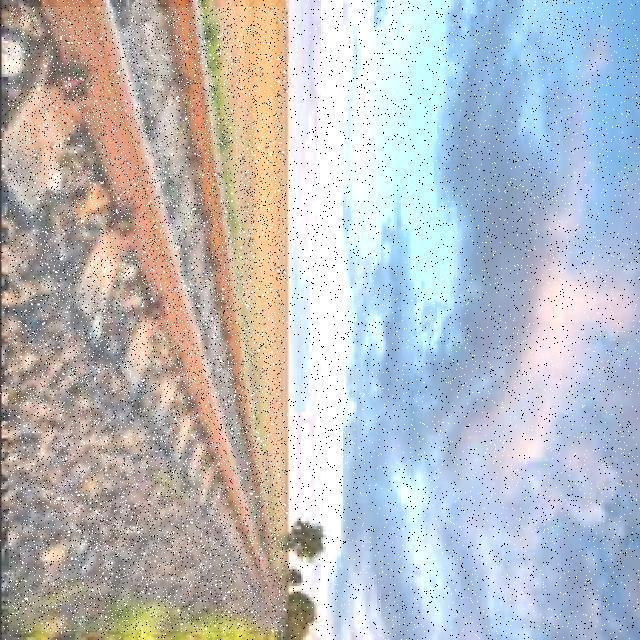rail: (10, 8, 286, 632)
